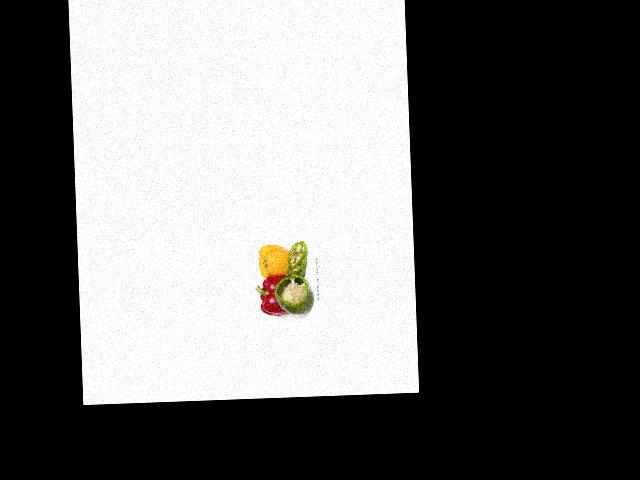bell_pepper: (272, 274, 311, 318)
